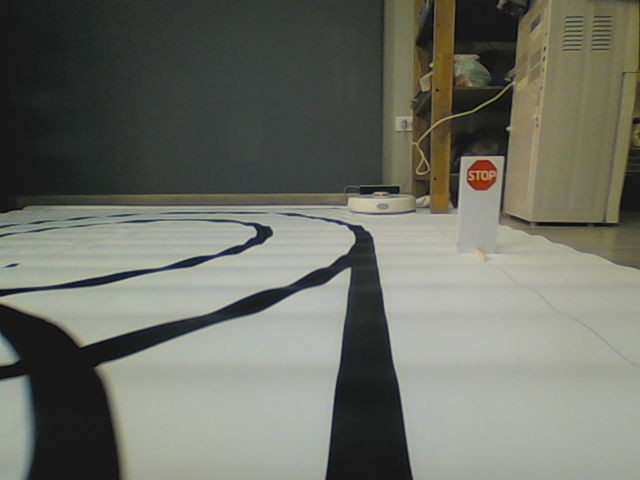Stop: (465, 159, 499, 193)
